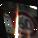Speed Limit -60-: (7, 6, 38, 38)
